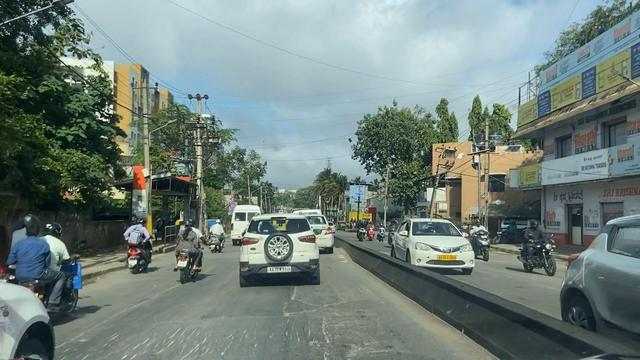LMV: (239, 215, 320, 282), (176, 217, 203, 283), (127, 216, 151, 271)
RoadDamages: (282, 285, 347, 360), (122, 282, 179, 310)
UnsurfacedRoad: (89, 316, 250, 357)
